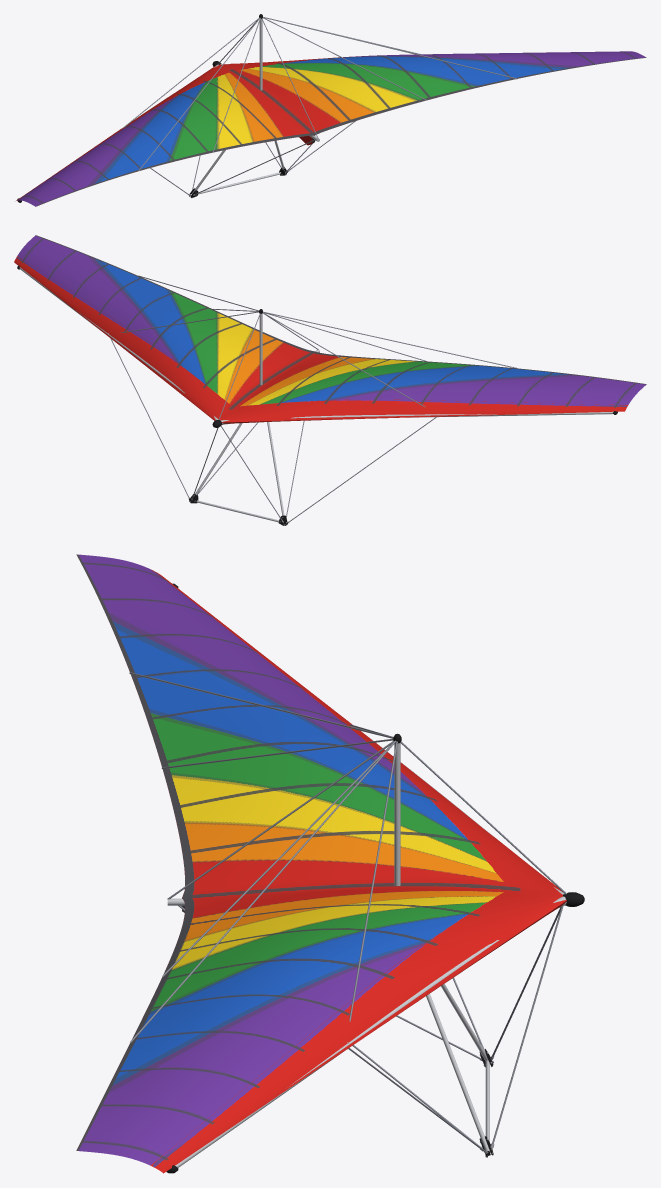
The model's file is glider_atlas.glb.
3 renders of one model, top to bottom at view 1: azimuth 30°, elevation 25°; view 2: azimuth 150°, elevation 25°; view 3: azimuth 270°, elevation 25°, orthographic. The views are drawn at different scales.
Parts seen in each view (by area): view 1: Sail, Frame, ControlFrame; view 2: Sail, Frame, ControlFrame; view 3: Sail, Frame, ControlFrame.
Boxes of the visible parts, <box> form: Sail: <box>16,51,646,206</box>; Frame: <box>17,14,517,202</box>; ControlFrame: <box>150,121,355,197</box>; Sail: <box>14,235,646,424</box>; Frame: <box>17,265,617,427</box>; ControlFrame: <box>110,338,436,525</box>; Sail: <box>76,554,566,1173</box>; Frame: <box>129,583,584,1173</box>; ControlFrame: <box>178,905,563,1157</box>.
Bounding box in the file's own units: 9.8 × 2.9 × 3.53.
Materials: 7 (1 with a texture image).
